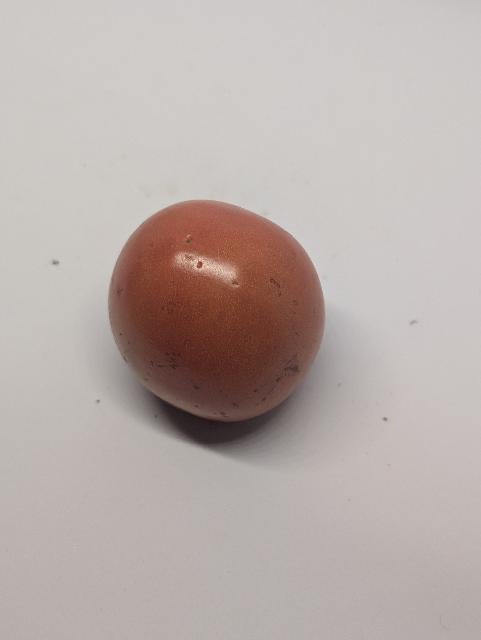red: (105, 197, 330, 440)
